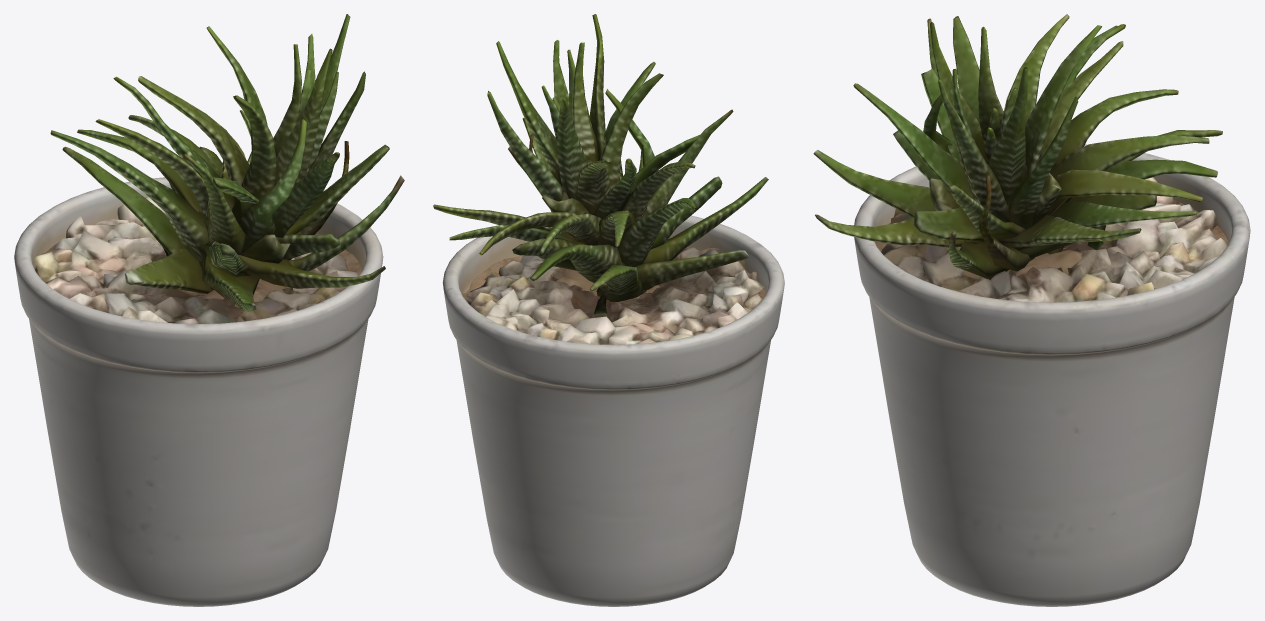
The model's file is potted_plant_04.glb.
3 renders of one model, left to right at view 1: azimuth 30°, elevation 25°; view 2: azimuth 150°, elevation 25°; view 3: azimuth 270°, elevation 25°, orthographic. The views are drawn at different scales.
Visible parts, largest first — view 1: potted_plant_04_pot, potted_plant_04_plant, potted_plant_04_ground, potted_plant_04_dirt; view 2: potted_plant_04_pot, potted_plant_04_plant, potted_plant_04_ground, potted_plant_04_dirt; view 3: potted_plant_04_pot, potted_plant_04_plant, potted_plant_04_ground, potted_plant_04_dirt.
Boxes of the visible parts, x1,y1,x2,y2 form: potted_plant_04_pot: [14, 177, 383, 606]; potted_plant_04_plant: [50, 14, 404, 311]; potted_plant_04_ground: [34, 196, 357, 323]; potted_plant_04_dirt: [34, 238, 362, 307]; potted_plant_04_pot: [442, 215, 784, 606]; potted_plant_04_plant: [433, 14, 768, 314]; potted_plant_04_ground: [463, 247, 765, 344]; potted_plant_04_dirt: [462, 247, 765, 306]; potted_plant_04_pot: [854, 144, 1250, 606]; potted_plant_04_plant: [813, 14, 1222, 279]; potted_plant_04_ground: [881, 177, 1227, 302]; potted_plant_04_dirt: [875, 200, 1228, 297].
Size of the model in its own units: 0.1679 by 0.2675 by 0.1848.
Materials: 1 (1 with a texture image).
